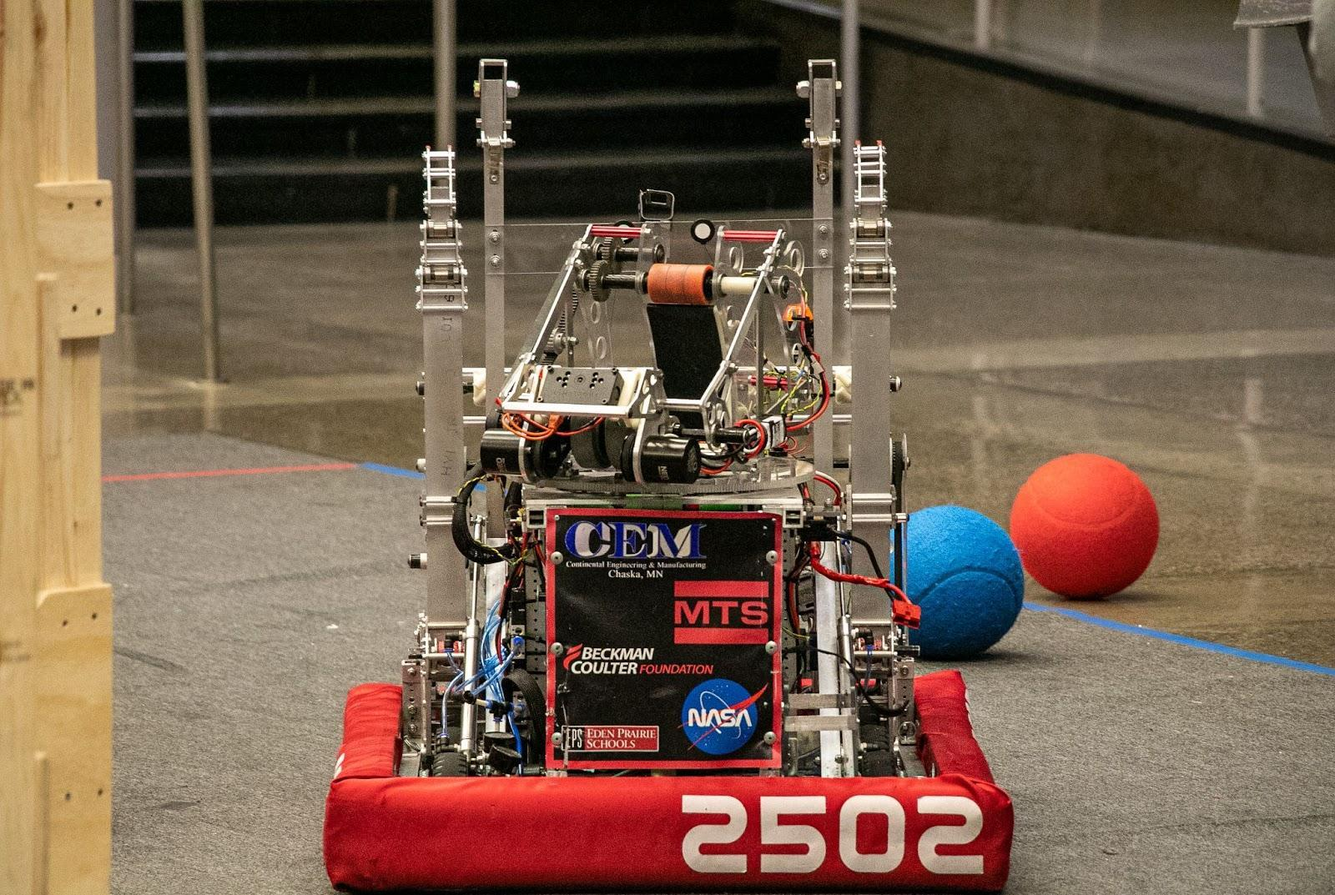robot: (321, 49, 1017, 895)
